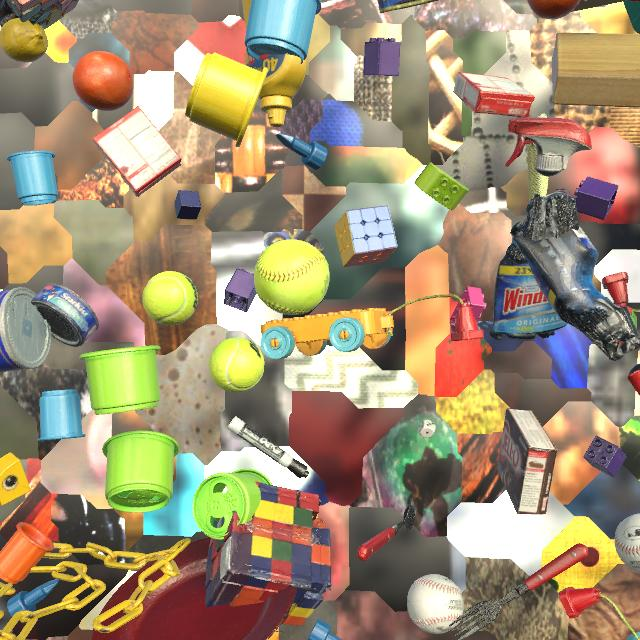ycb_002_master_chef_can: (0, 287, 51, 373)
ycb_006_mustard_bottle: (242, 0, 307, 127)
ycb_007_tuna_fish_can: (31, 283, 99, 347)
ycb_008_pudding_box: (497, 408, 558, 515)
ycb_009_gelatin_box: (92, 106, 182, 197), (453, 72, 535, 118)
ycb_010_potted_meat_can: (378, 0, 439, 14)
ycb_012_strawberry: (615, 304, 637, 328)
ycb_014_lemon: (0, 18, 48, 62)
ycb_017_orange: (73, 51, 133, 111), (527, 0, 580, 19)
